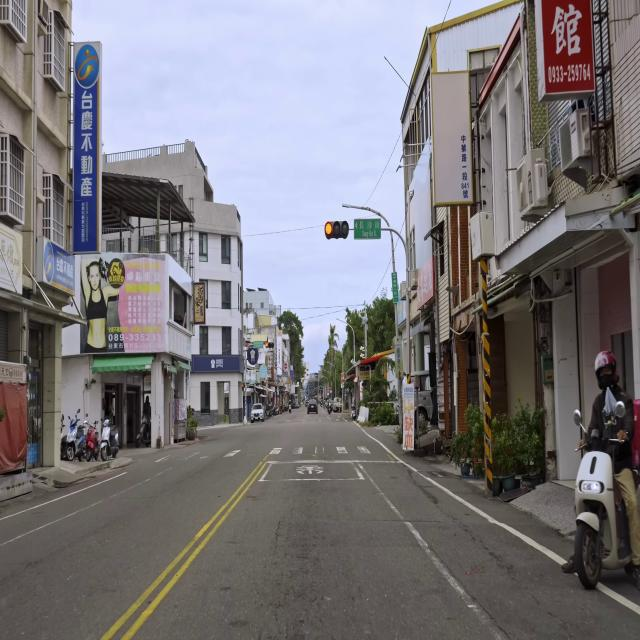red light: (325, 221, 349, 238), (265, 342, 274, 348)
